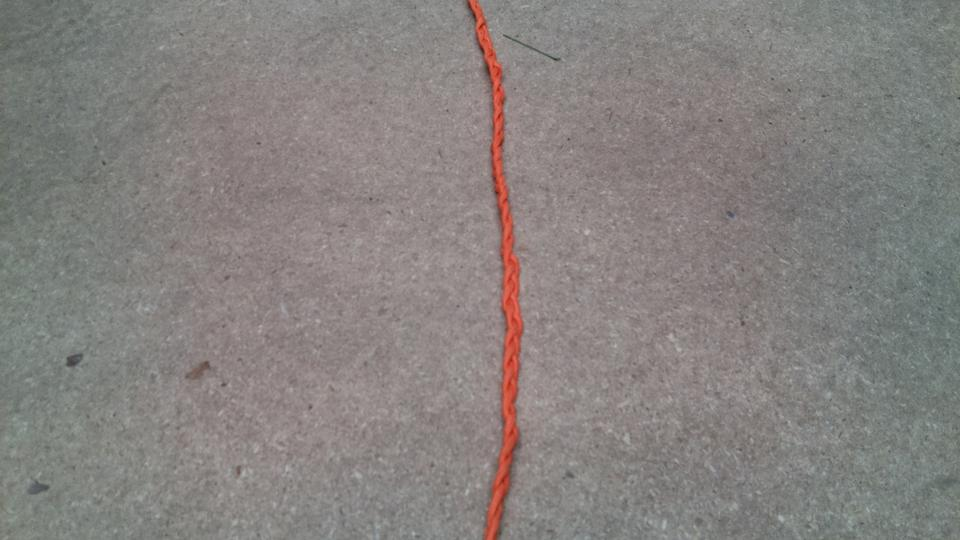rope: (458, 1, 528, 540)
